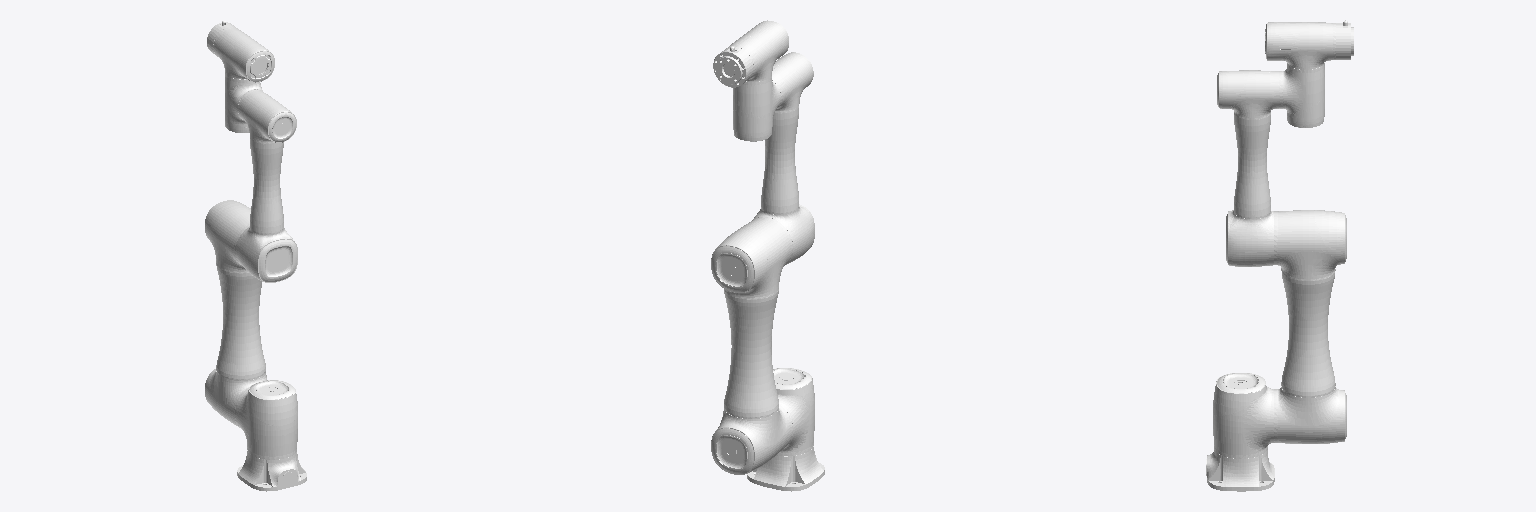
URDF robot description (cr5):
<?xml version="1.0" encoding="utf-8"?>
<!-- This URDF was automatically created by SolidWorks to URDF Exporter! Originally created by Stephen Brawner (brawner@gmail.com) 
     Commit Version: 1.6.0-4-g7f85cfe  Build Version: 1.6.7995.38578
     For more information, please see http://wiki.ros.org/sw_urdf_exporter -->
<robot name="cr5">
  <link
    name="base_link">
    <inertial>
      <origin
        xyz="8.0966E-06 -0.0019103 -0.051005"
        rpy="0 0 0" />
      <mass
        value="0.90882" />
      <inertia
        ixx="0.0014545"
        ixy="4.2731E-08"
        ixz="1.8099E-07"
        iyy="0.001345"
        iyz="6.2437E-06"
        izz="0.002155" />
    </inertial>
    <visual>
      <origin
        xyz="0 0 0"
        rpy="0 0 0" />
      <geometry>
        <mesh
          filename="package://cr5/meshes/base_link.STL" />
      </geometry>
      <material
        name="">
        <color
          rgba="1 1 1 1" />
      </material>
    </visual>
    <collision>
      <origin
        xyz="0 0 0"
        rpy="0 0 0" />
      <geometry>
        <mesh
          filename="package://cr5/meshes/base_link.STL" />
      </geometry>
    </collision>
  </link>
  <link
    name="lk1">
    <inertial>
      <origin
        xyz="8.18394011160891E-07 0.00325758527261798 0.0593251706640469"
        rpy="0 0 0" />
      <mass
        value="1.6123089856095" />
      <inertia
        ixx="0.00291222507130299"
        ixy="7.43636397503612E-09"
        ixz="-2.16472187885338E-08"
        iyy="0.00281910519004488"
        iyz="-0.00044094180363419"
        izz="0.00328355836274413" />
    </inertial>
    <visual>
      <origin
        xyz="0 0 0"
        rpy="0 0 0" />
      <geometry>
        <mesh
          filename="package://cr5/meshes/lk1.STL" />
      </geometry>
      <material
        name="">
        <color
          rgba="1 1 1 1" />
      </material>
    </visual>
    <collision>
      <origin
        xyz="0 0 0"
        rpy="0 0 0" />
      <geometry>
        <mesh
          filename="package://cr5/meshes/lk1.STL" />
      </geometry>
    </collision>
  </link>
  <joint
    name="jt1"
    type="revolute">
    <origin
      xyz="0 0 0"
      rpy="0 0 0" />
    <parent
      link="base_link" />
    <child
      link="lk1" />
    <axis
      xyz="0 0 1" />
    <limit
      lower="-3.14"
      upper="3.14"
      effort="100"
      velocity="1" />
  </joint>
  <link
    name="lk2">
    <inertial>
      <origin
        xyz="-4.07551920223101E-09 -0.213509990415851 0.0712201630235778"
        rpy="0 0 0" />
      <mass
        value="5.52439538537763" />
      <inertia
        ixx="0.0275814564145088"
        ixy="1.72937368486661E-08"
        ixz="1.17682000397013E-09"
        iyy="0.00860329027107355"
        iyz="2.2954943577973E-10"
        izz="0.0283210374955827" />
    </inertial>
    <visual>
      <origin
        xyz="0 0 0"
        rpy="0 0 0" />
      <geometry>
        <mesh
          filename="package://cr5/meshes/lk2.STL" />
      </geometry>
      <material
        name="">
        <color
          rgba="1 1 1 1" />
      </material>
    </visual>
    <collision>
      <origin
        xyz="0 0 0"
        rpy="0 0 0" />
      <geometry>
        <mesh
          filename="package://cr5/meshes/lk2.STL" />
      </geometry>
    </collision>
  </link>
  <joint
    name="jt2"
    type="revolute">
    <origin
      xyz="0 0.0713 0.067"
      rpy="-1.5708 0 0" />
    <parent
      link="lk1" />
    <child
      link="lk2" />
    <axis
      xyz="0 0 1" />
    <limit
      lower="-3.14"
      upper="3.14"
      effort="100"
      velocity="1" />
  </joint>
  <link
    name="lk3">
    <inertial>
      <origin
        xyz="1.69942898221867E-07 0.152312204935856 0.048607146999369"
        rpy="0 0 0" />
      <mass
        value="2.85358342287792" />
      <inertia
        ixx="0.00929669536538658"
        ixy="-6.11041286567012E-10"
        ixz="7.41734661210139E-10"
        iyy="0.00326083420889769"
        iyz="0.000123628550085934"
        izz="0.00955520367164206" />
    </inertial>
    <visual>
      <origin
        xyz="0 0 0"
        rpy="0 0 0" />
      <geometry>
        <mesh
          filename="package://cr5/meshes/lk3.STL" />
      </geometry>
      <material
        name="">
        <color
          rgba="1 1 1 1" />
      </material>
    </visual>
    <collision>
      <origin
        xyz="0 0 0"
        rpy="0 0 0" />
      <geometry>
        <mesh
          filename="package://cr5/meshes/lk3.STL" />
      </geometry>
    </collision>
  </link>
  <joint
    name="jt3"
    type="revolute">
    <origin
      xyz="0 -0.427 0"
      rpy="3.1416 0 0" />
    <parent
      link="lk2" />
    <child
      link="lk3" />
    <axis
      xyz="0 0 -1" />
    <limit
      lower="-2.79"
      upper="2.79"
      effort="100"
      velocity="1" />
  </joint>
  <link
    name="lk4">
    <inertial>
      <origin
        xyz="-3.23872942785408E-07 -0.00207701711240893 0.0479452477759309"
        rpy="0 0 0" />
      <mass
        value="0.670578763328306" />
      <inertia
        ixx="0.000669393217067053"
        ixy="4.19746350806729E-10"
        ixz="-1.0733696757666E-08"
        iyy="0.000654243978246737"
        iyz="0.000110805321463686"
        izz="0.000653652683894412" />
    </inertial>
    <visual>
      <origin
        xyz="0 0 0"
        rpy="0 0 0" />
      <geometry>
        <mesh
          filename="package://cr5/meshes/lk4.STL" />
      </geometry>
      <material
        name="">
        <color
          rgba="1 1 1 1" />
      </material>
    </visual>
    <collision>
      <origin
        xyz="0 0 0"
        rpy="0 0 0" />
      <geometry>
        <mesh
          filename="package://cr5/meshes/lk4.STL" />
      </geometry>
    </collision>
  </link>
  <joint
    name="jt4"
    type="revolute">
    <origin
      xyz="0 0.357 -0.0202"
      rpy="3.1416 0 0" />
    <parent
      link="lk3" />
    <child
      link="lk4" />
    <axis
      xyz="0 0 1" />
    <limit
      lower="-3.14"
      upper="3.14"
      effort="100"
      velocity="1" />
  </joint>
  <link
    name="lk5">
    <inertial>
      <origin
        xyz="-3.4039705327987E-07 -0.00457777757255001 0.0482029409311968"
        rpy="0 0 0" />
      <mass
        value="0.726902811830809" />
      <inertia
        ixx="0.000730690017841734"
        ixy="-6.02619294288777E-09"
        ixz="6.85246571687323E-09"
        iyy="0.000711950290163978"
        iyz="-0.000119255565803413"
        izz="0.000713904252251437" />
    </inertial>
    <visual>
      <origin
        xyz="0 0 0"
        rpy="0 0 0" />
      <geometry>
        <mesh
          filename="package://cr5/meshes/lk5.STL" />
      </geometry>
      <material
        name="">
        <color
          rgba="1 1 1 1" />
      </material>
    </visual>
    <collision>
      <origin
        xyz="0 0 0"
        rpy="0 0 0" />
      <geometry>
        <mesh
          filename="package://cr5/meshes/lk5.STL" />
      </geometry>
    </collision>
  </link>
  <joint
    name="jt5"
    type="revolute">
    <origin
      xyz="0 -0.0665 0.0495"
      rpy="1.5708 0 0" />
    <parent
      link="lk4" />
    <child
      link="lk5" />
    <axis
      xyz="0 0 1" />
    <limit
      lower="-3.14"
      upper="3.14"
      effort="100"
      velocity="1" />
  </joint>
  <link
    name="lk6">
    <inertial>
      <origin
        xyz="5.07771932025395E-11 9.37736984086834E-05 0.0192145633229764"
        rpy="0 0 0" />
      <mass
        value="0.15788533522659" />
      <inertia
        ixx="7.80450541583694E-05"
        ixy="6.15824786503475E-15"
        ixz="6.2471243304184E-14"
        iyy="7.91678709433622E-05"
        iyz="-1.38218659646758E-07"
        izz="0.000129505866630553" />
    </inertial>
    <visual>
      <origin
        xyz="0 0 0"
        rpy="0 0 0" />
      <geometry>
        <mesh
          filename="package://cr5/meshes/lk6.STL" />
      </geometry>
      <material
        name="">
        <color
          rgba="1 1 1 1" />
      </material>
    </visual>
    <collision>
      <origin
        xyz="0 0 0"
        rpy="0 0 0" />
      <geometry>
        <mesh
          filename="package://cr5/meshes/lk6.STL" />
      </geometry>
    </collision>
  </link>
  <joint
    name="jt6"
    type="revolute">
    <origin
      xyz="0 0.0665 0.0495"
      rpy="-1.5708 0 0" />
    <parent
      link="lk5" />
    <child
      link="lk6" />
    <axis
      xyz="0 0 1" />
    <limit
      lower="-3.14"
      upper="3.14"
      effort="100"
      velocity="1" />
  </joint>
</robot>

--- Render facts (derived) ---
The picture shows the robot from 3 angles, left to right: view 1: azimuth 30°, elevation 25°; view 2: azimuth 150°, elevation 25°; view 3: azimuth 270°, elevation 25°; orthographic projection.
Robot: cr5 — 7 links, 6 joints (6 revolute); root link base_link; default pose: all joints at 0.
Links seen in each view (by area): view 1: lk2, lk3, lk1, lk5, base_link, lk4; view 2: lk2, lk3, lk1, lk4, base_link, lk5, lk6; view 3: lk2, lk3, lk1, lk5, lk4, base_link, lk6.
Link boxes in pixels (x1=…): lk2: x1=205, y1=200, x2=267, y2=427; lk3: x1=236, y1=89, x2=297, y2=282; lk1: x1=236, y1=380, x2=297, y2=459; lk5: x1=213, y1=27, x2=274, y2=82; base_link: x1=237, y1=450, x2=306, y2=491; lk4: x1=225, y1=74, x2=262, y2=132; lk2: x1=711, y1=217, x2=792, y2=474; lk3: x1=752, y1=52, x2=814, y2=264; lk1: x1=773, y1=368, x2=814, y2=455; lk4: x1=733, y1=76, x2=780, y2=141; base_link: x1=747, y1=446, x2=824, y2=491; lk5: x1=729, y1=20, x2=788, y2=81; lk6: x1=713, y1=46, x2=753, y2=87; lk2: x1=1274, y1=210, x2=1346, y2=443; lk3: x1=1217, y1=70, x2=1282, y2=266; lk1: x1=1213, y1=373, x2=1273, y2=458; lk5: x1=1265, y1=22, x2=1335, y2=69; lk4: x1=1283, y1=62, x2=1324, y2=127; base_link: x1=1206, y1=450, x2=1274, y2=491; lk6: x1=1336, y1=20, x2=1353, y2=59.
Bounding box of the posed robot: 0.148 × 0.3221 × 1.1 m (x, y, z).
Meshes: 7 distinct files referenced, 7 mesh visuals loaded (7 binary STL).
